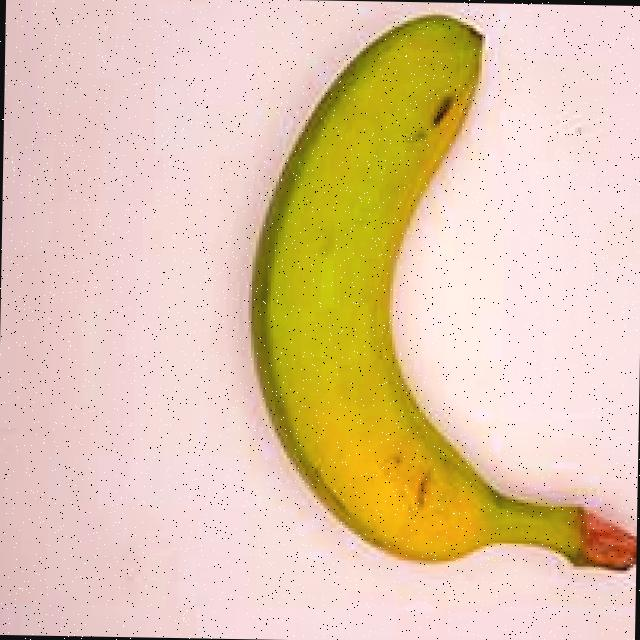Unripe: (217, 7, 640, 582)
